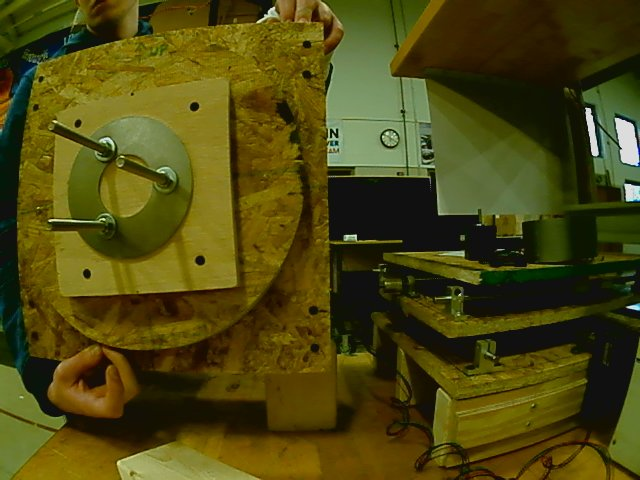bolt: (151, 165, 180, 196), (93, 134, 119, 164), (94, 212, 119, 242)
